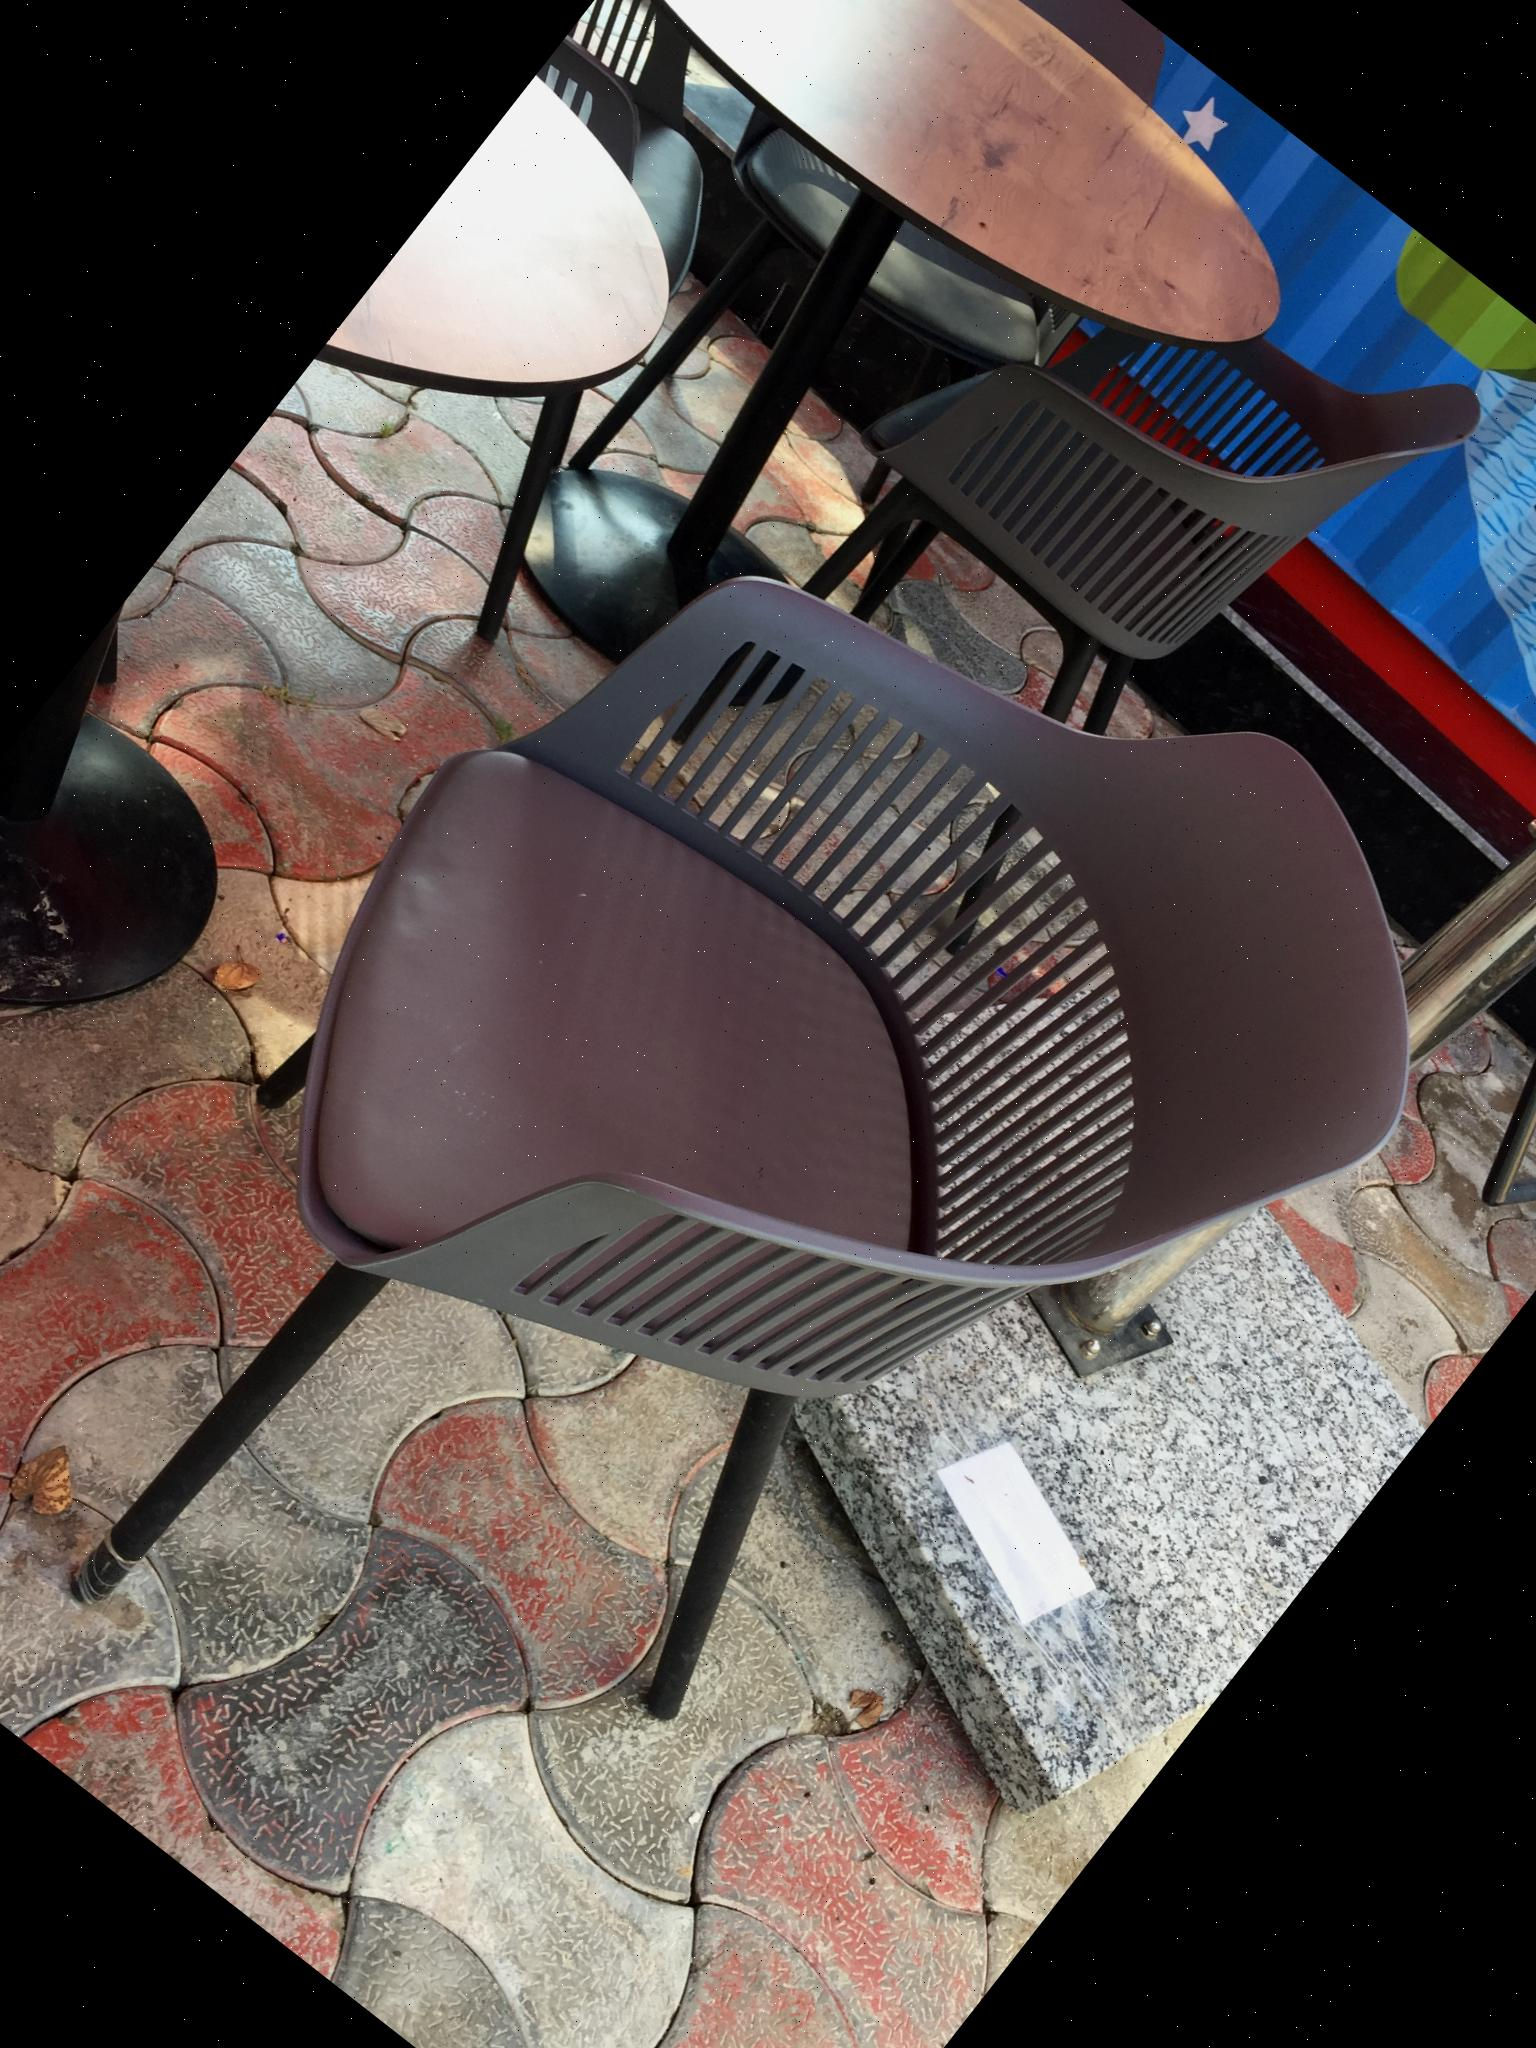chair: (0, 335, 1536, 2048), (649, 108, 1494, 1001)
